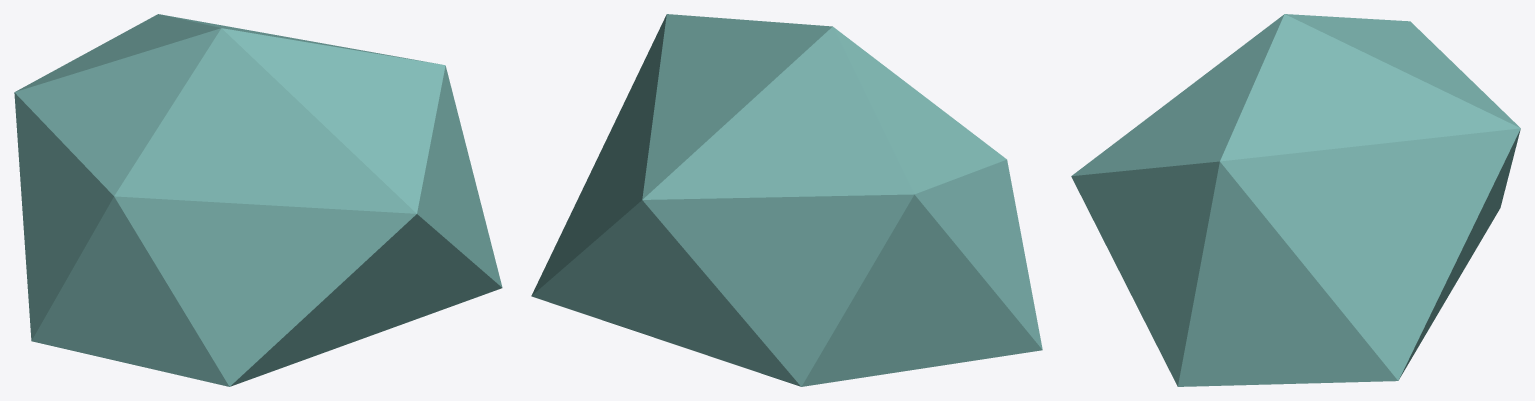
File: Rock 2.fbx
3 renders of one model, left to right at view 1: azimuth 30°, elevation 25°; view 2: azimuth 150°, elevation 25°; view 3: azimuth 270°, elevation 25°, orthographic. The views are drawn at different scales.
Visible parts, largest first — view 1: Rock.001; view 2: Rock.001; view 3: Rock.001.
Part boxes in pixels (x1,y1,x2,y2): Rock.001: [14, 14, 502, 386]; Rock.001: [531, 14, 1042, 386]; Rock.001: [1071, 14, 1520, 386].
Bounding box in the file's own units: 198 × 142 × 189.
